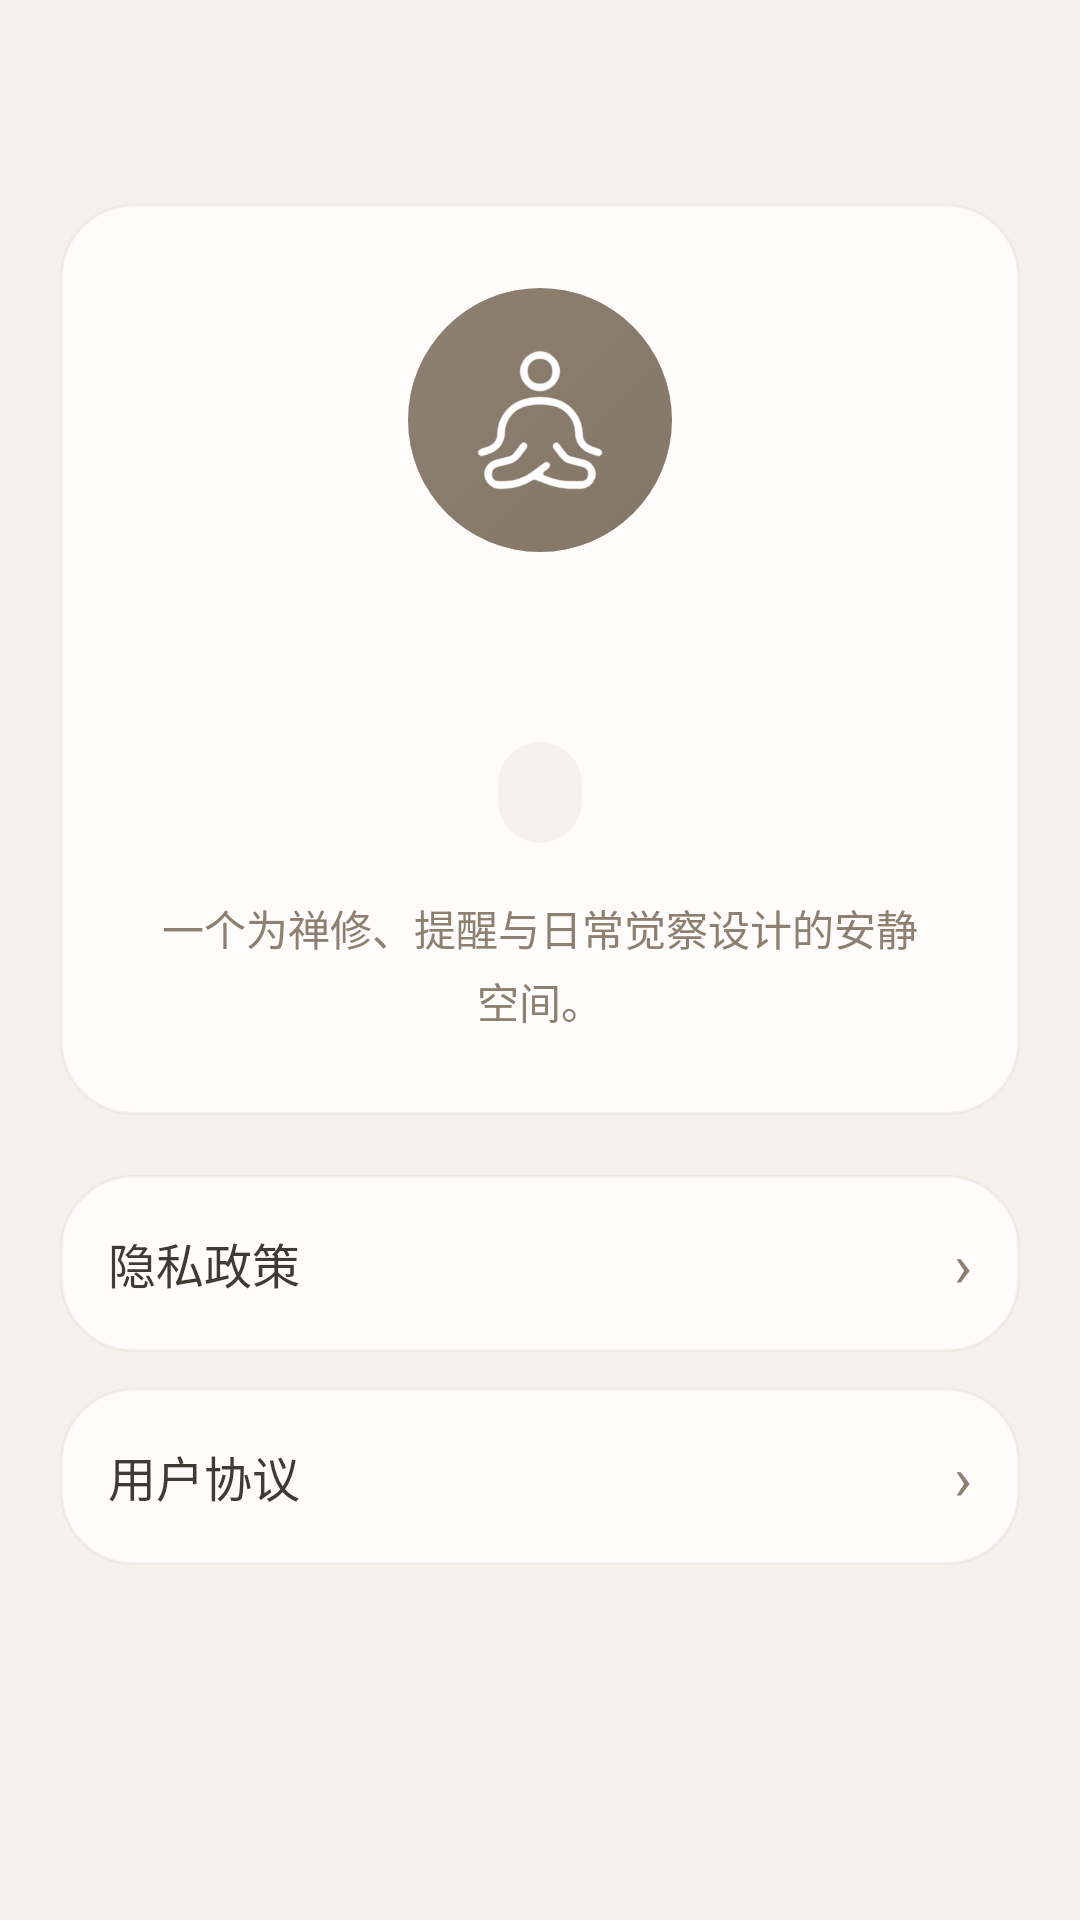

Named icons in this screenshot (1080 x 1920) and their bounding boxes, (x1=x1, y1=y1, x2=x2, y2=y2):
meditation: (x1=478, y1=351, x2=603, y2=489)
